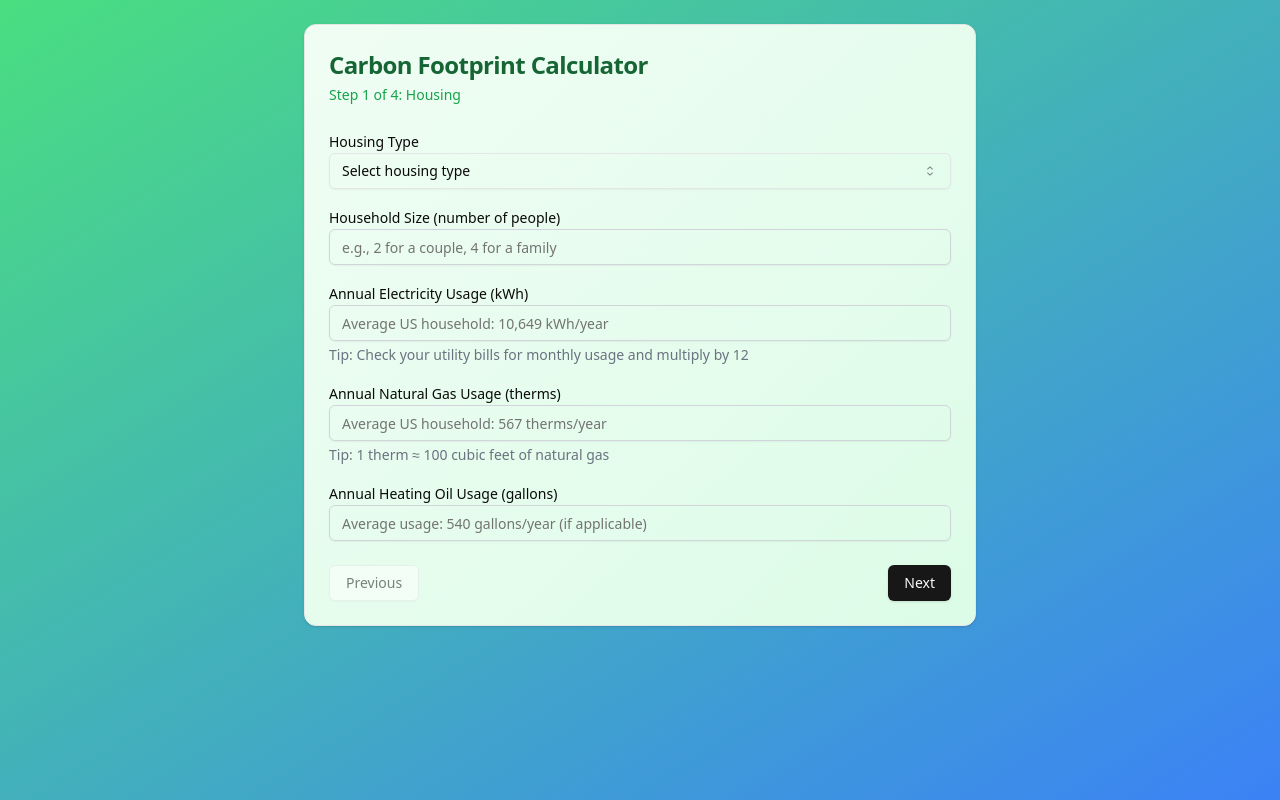
Test: Calculator Component › can navigate to next step
The width and height of the screenshot is (1280, 800).
Click the button "Next". click: point(920, 583)
box: [888,565,951,601]
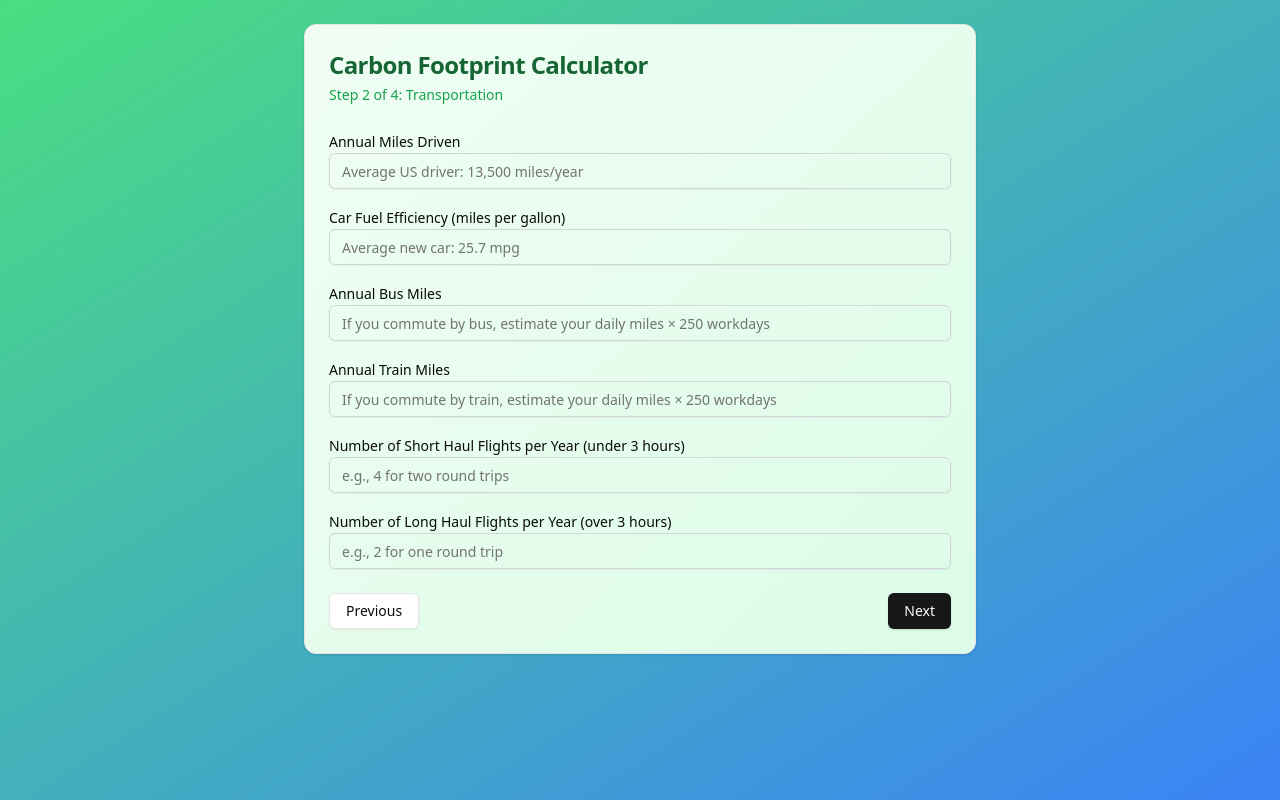
Expected: the text "Step 2 of 4: Transportation" is shown, [329,85,503,104]
